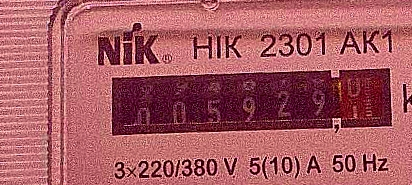0: (168, 98, 189, 127), (131, 102, 154, 126), (343, 75, 363, 99)
2: (272, 87, 293, 121)
5: (203, 96, 223, 125)
9: (236, 93, 259, 124), (308, 86, 329, 119), (135, 82, 154, 101)
screen: (102, 56, 401, 152)
